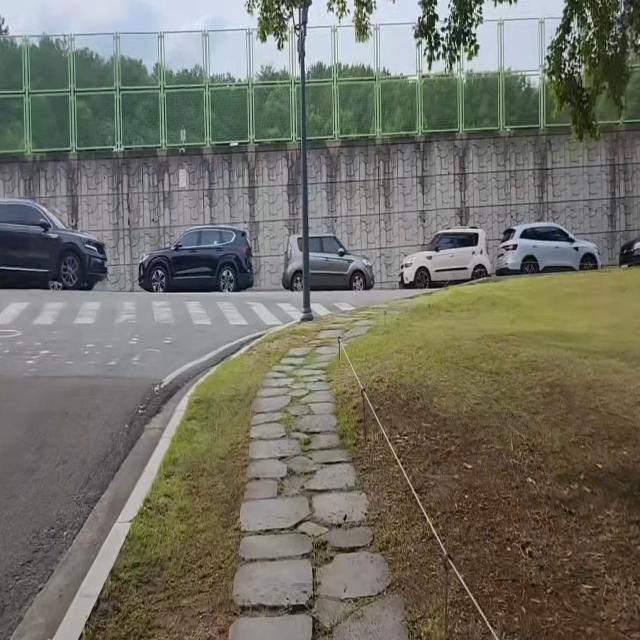obstacle: (0, 191, 115, 298), (132, 221, 263, 295), (392, 221, 497, 309), (276, 219, 385, 297), (493, 212, 610, 277), (300, 48, 312, 320)
road: (0, 289, 422, 640)
